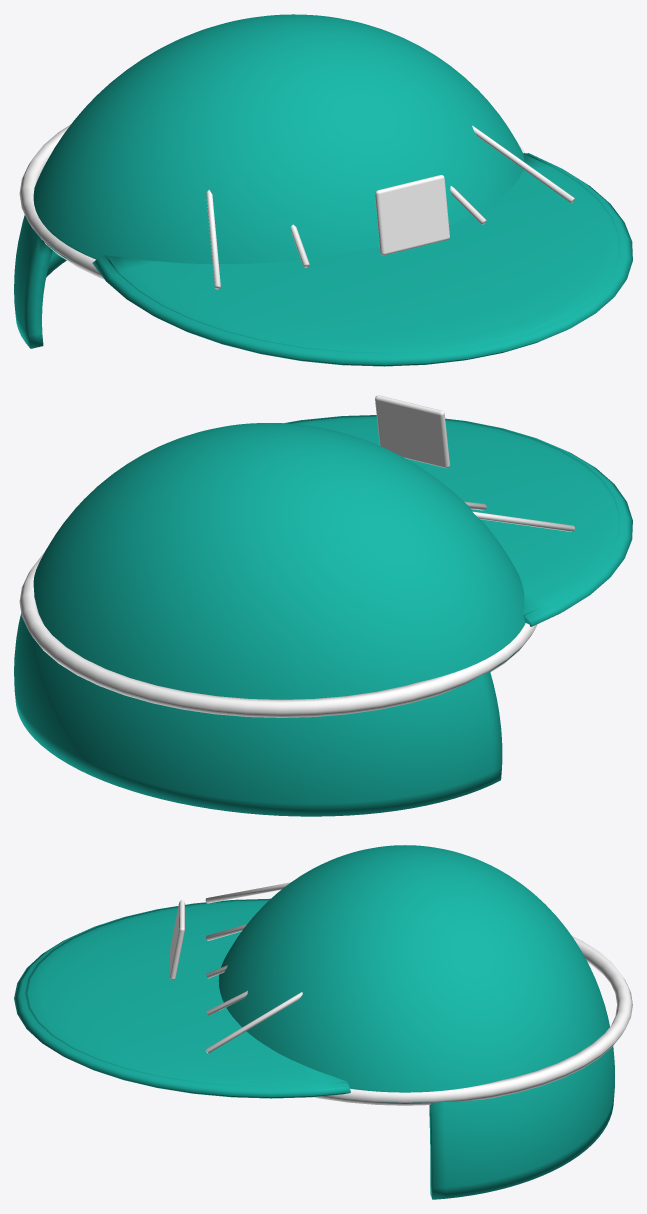
The model's file is cap.glb.
3 views of the same model, one above another, from view 1: azimuth 30°, elevation 25°; view 2: azimuth 150°, elevation 25°; view 3: azimuth 270°, elevation 25° (orthographic). The views are drawn at different scales.
Visible parts, largest first — view 1: Cap crown, Cap brim, Cap logo patch, Cap sweatband, Cap panel seam.004, Cap panel seam; view 2: Cap crown, Cap brim, Cap sweatband, Cap logo patch, Cap panel seam; view 3: Cap crown, Cap brim, Cap sweatband, Cap logo patch, Cap panel seam.004, Cap panel seam.
Part boxes in pixels (x1=…): Cap crown: x1=14, y1=14, x2=524, y2=348; Cap brim: x1=92, y1=153, x2=632, y2=366; Cap logo patch: x1=375, y1=175, x2=449, y2=255; Cap sweatband: x1=19, y1=124, x2=525, y2=279; Cap panel seam.004: x1=472, y1=125, x2=574, y2=203; Cap panel seam: x1=206, y1=190, x2=220, y2=289; Cap crown: x1=14, y1=423, x2=525, y2=816; Cap brim: x1=284, y1=415, x2=632, y2=626; Cap sweatband: x1=19, y1=553, x2=537, y2=717; Cap logo patch: x1=375, y1=395, x2=449, y2=468; Cap panel seam: x1=472, y1=511, x2=574, y2=531; Cap crown: x1=218, y1=845, x2=614, y2=1199; Cap brim: x1=14, y1=898, x2=350, y2=1098; Cap sweatband: x1=313, y1=936, x2=632, y2=1105; Cap logo patch: x1=170, y1=900, x2=184, y2=980; Cap panel seam.004: x1=205, y1=992, x2=302, y2=1053; Cap panel seam: x1=205, y1=882, x2=290, y2=903.
Bounding box in the file's own units: 0.4799 × 0.258 × 0.625.
